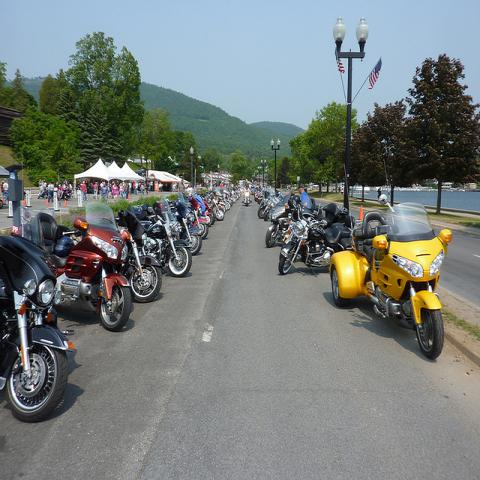motorcycle: (326, 191, 456, 365), (2, 231, 77, 421), (30, 202, 132, 331), (37, 184, 270, 220), (276, 203, 346, 279), (116, 203, 163, 304), (140, 198, 192, 280), (265, 188, 325, 247), (170, 192, 202, 256), (187, 193, 209, 240), (258, 188, 289, 218), (194, 196, 216, 228), (204, 190, 225, 220), (212, 191, 226, 212)
